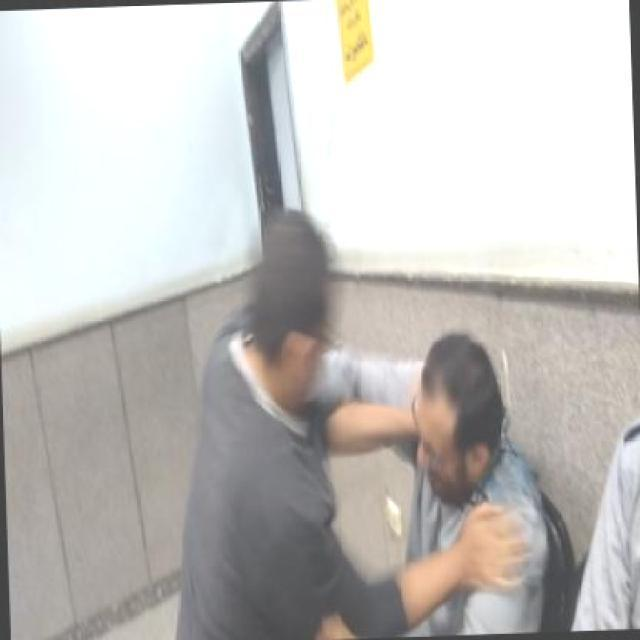fight: (171, 200, 554, 638)
